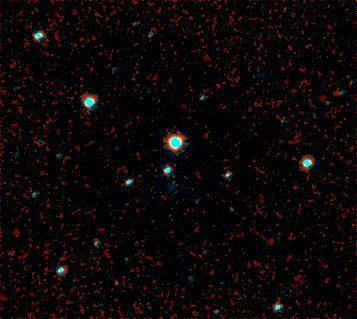star: (97, 265, 127, 295)
